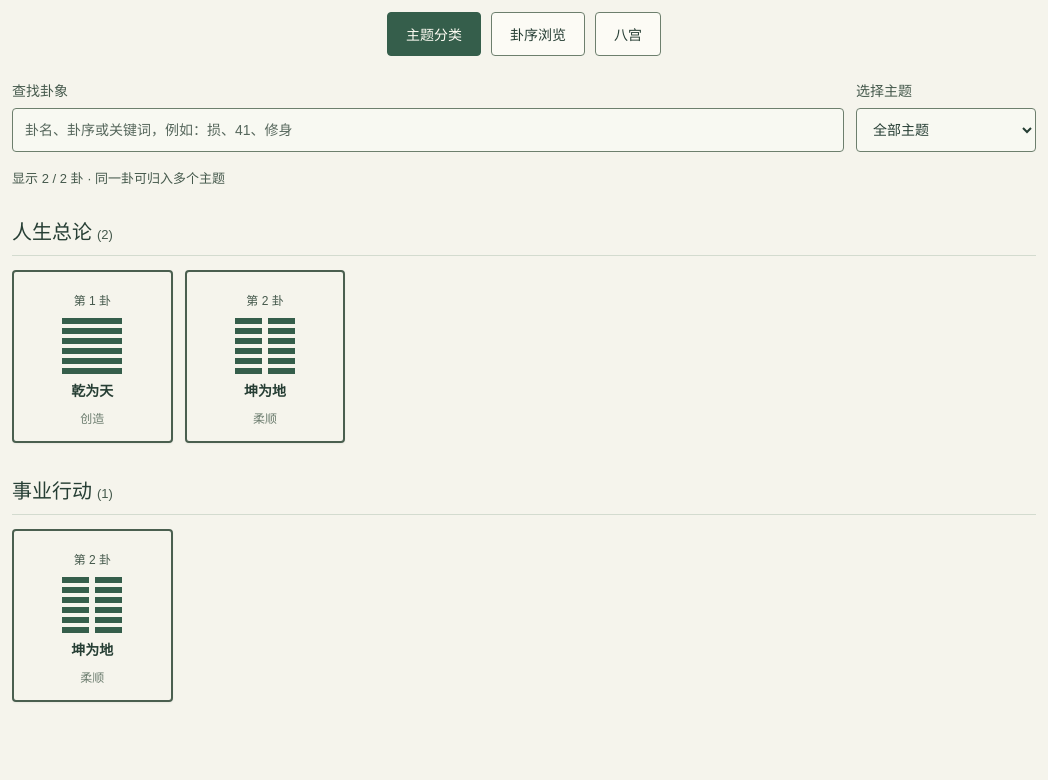
CodexGrid › switches to palace view when 八宫 tab clicked
The width and height of the screenshot is (1048, 780).
What coordinates should you click on to do the following:
click the button "八宫"
I would click on:
 (628, 34)
Its box is [595,12,661,56].
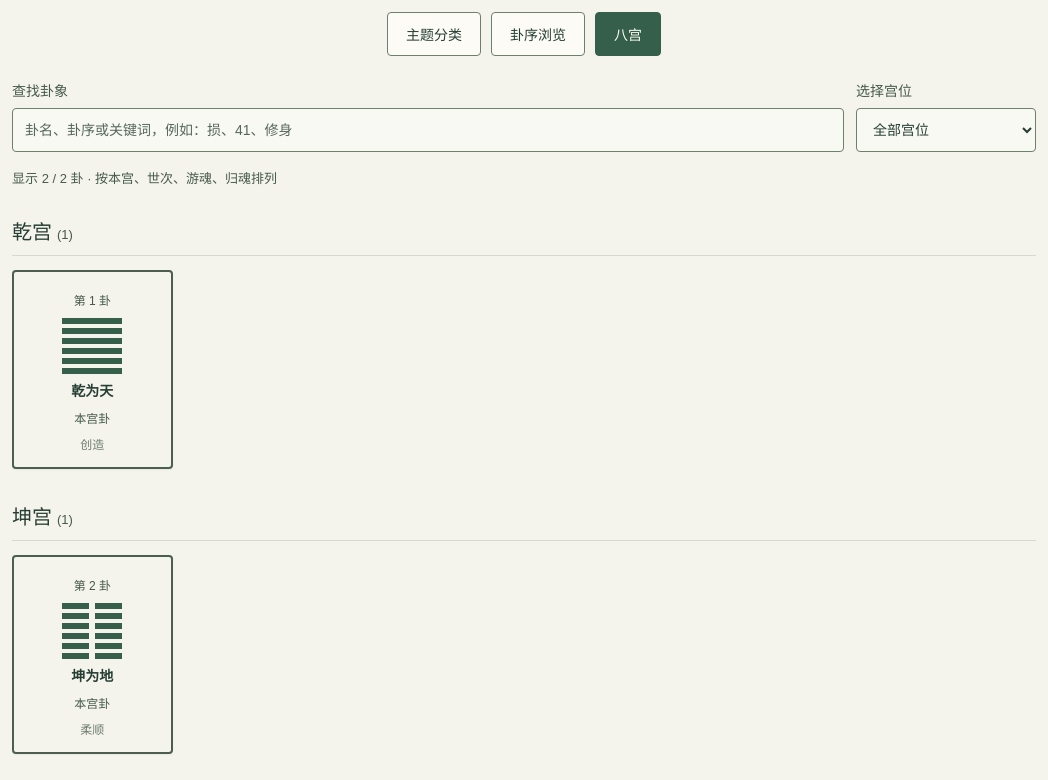
Expected: the heading "乾宫 (1)" is shown, [12,216,1036,256]
Expected: the heading "坤宫 (1)" is shown, [12,501,1036,541]
